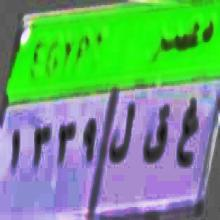1: (9, 117, 27, 180)
3: (31, 115, 52, 176), (56, 114, 78, 172)
9: (83, 109, 100, 172)
ghayn: (176, 95, 201, 177)
laam: (109, 102, 138, 166)
qaaf: (142, 101, 171, 166)
